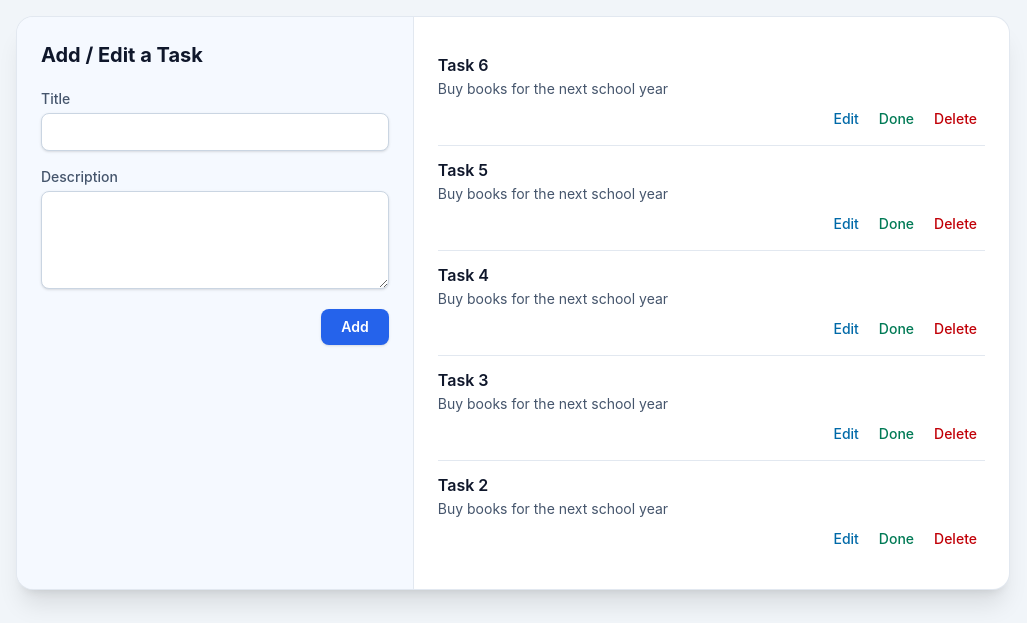
Test: App › hides a task once it is marked done, revealing an older one
Expected: the text "Task 1" is not shown
Click the button with aria-label "mark task 6 as done" at (896, 119), box top-left (871, 105), bottom-right (922, 133)
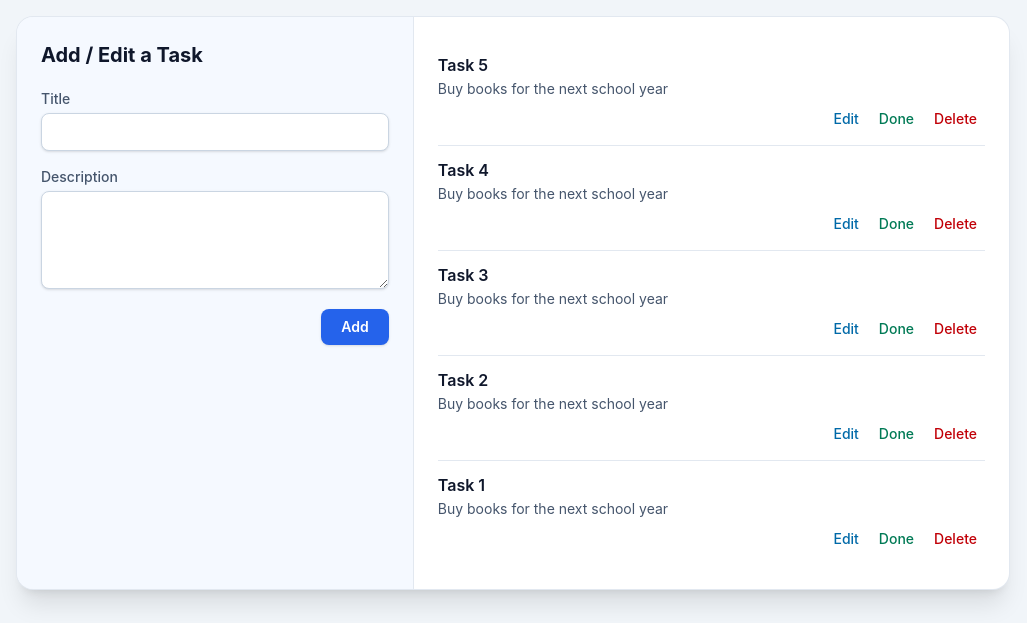
Result: the heading "Task 6" is gone
Result: the heading "Task 1" is shown at top-left (438, 475), bottom-right (485, 495)
